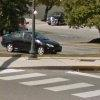Car: (2, 22, 70, 64)
